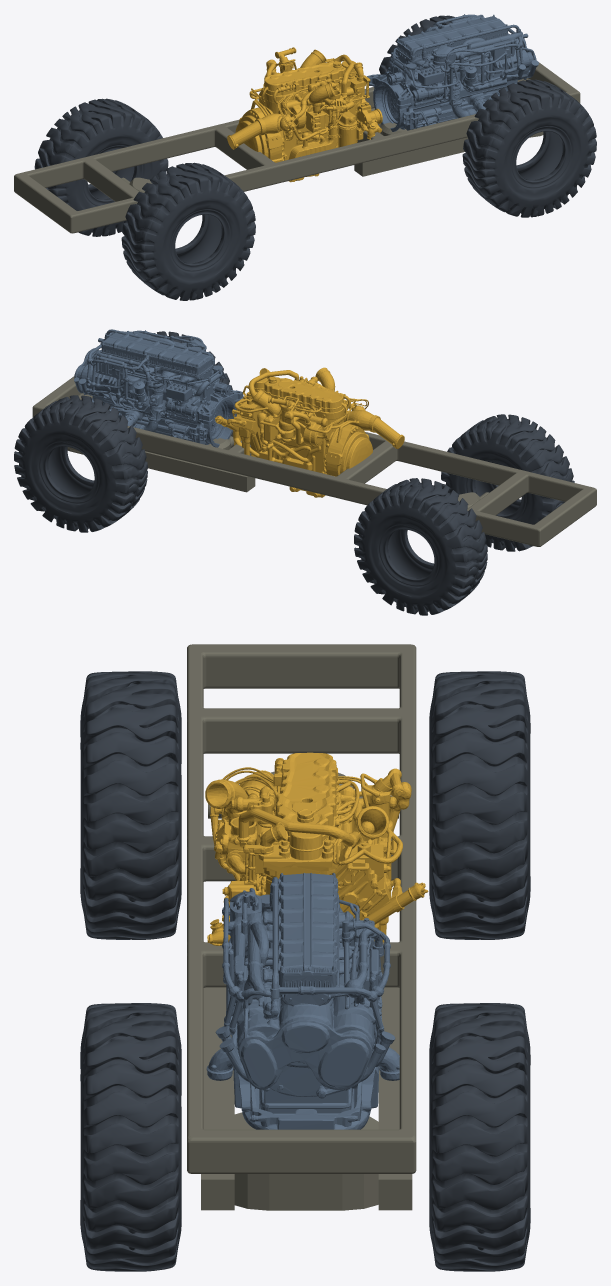
The model's file is truck.glb.
The picture shows the model from 3 angles, top to bottom: view 1: azimuth 30°, elevation 25°; view 2: azimuth 150°, elevation 25°; view 3: azimuth 270°, elevation 25°; orthographic projection. The views are drawn at different scales.
Parts seen in each view (by area): view 1: Cube.002, Cube.001, Cube.003; view 2: Cube.002, Cube.001, Cube.003; view 3: Cube.002, Cube.001, Cube.003.
Boxes of the visible parts, x1,y1,x2,y2 form: Cube.002: (14,15,596,300); Cube.001: (367,14,538,131); Cube.003: (227,47,382,182); Cube.002: (14,331,596,615); Cube.001: (74,329,243,447); Cube.003: (215,367,404,497); Cube.002: (80,644,530,1271); Cube.001: (206,872,399,1129); Cube.003: (205,752,428,945).
Bounding box in the file's own units: 5.08 × 1.5 × 1.94.
